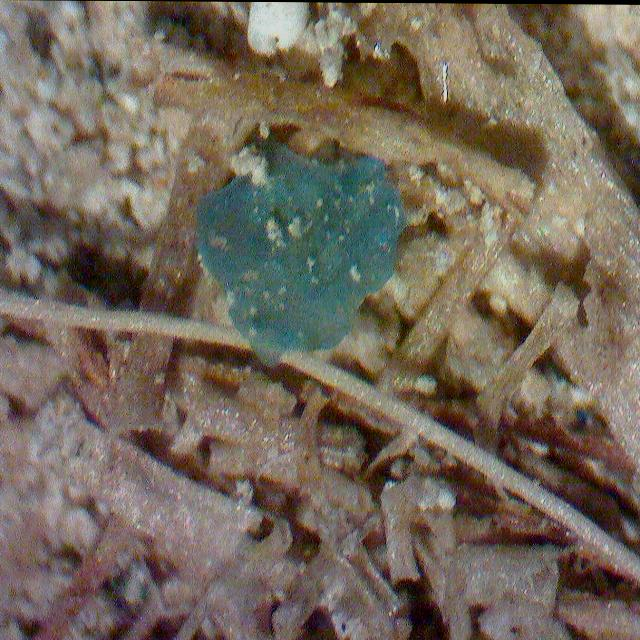microplastic: (196, 143, 411, 369)
